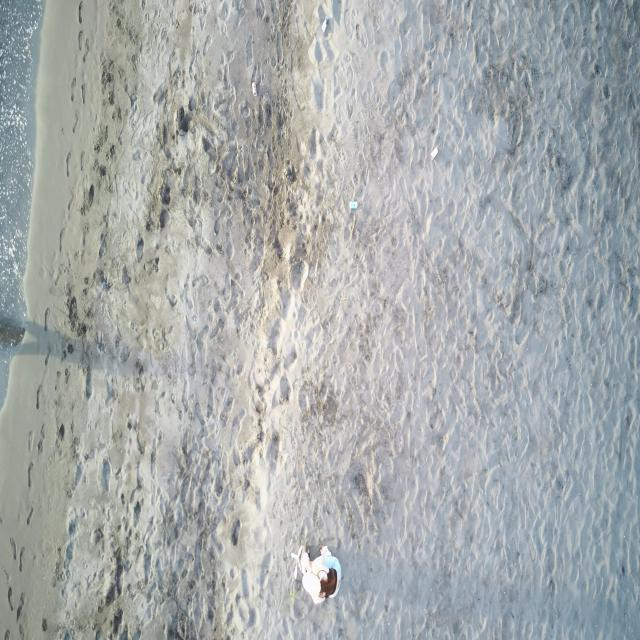Garbage: (320, 16, 328, 32), (431, 145, 437, 158), (348, 200, 356, 209), (252, 80, 256, 96)
